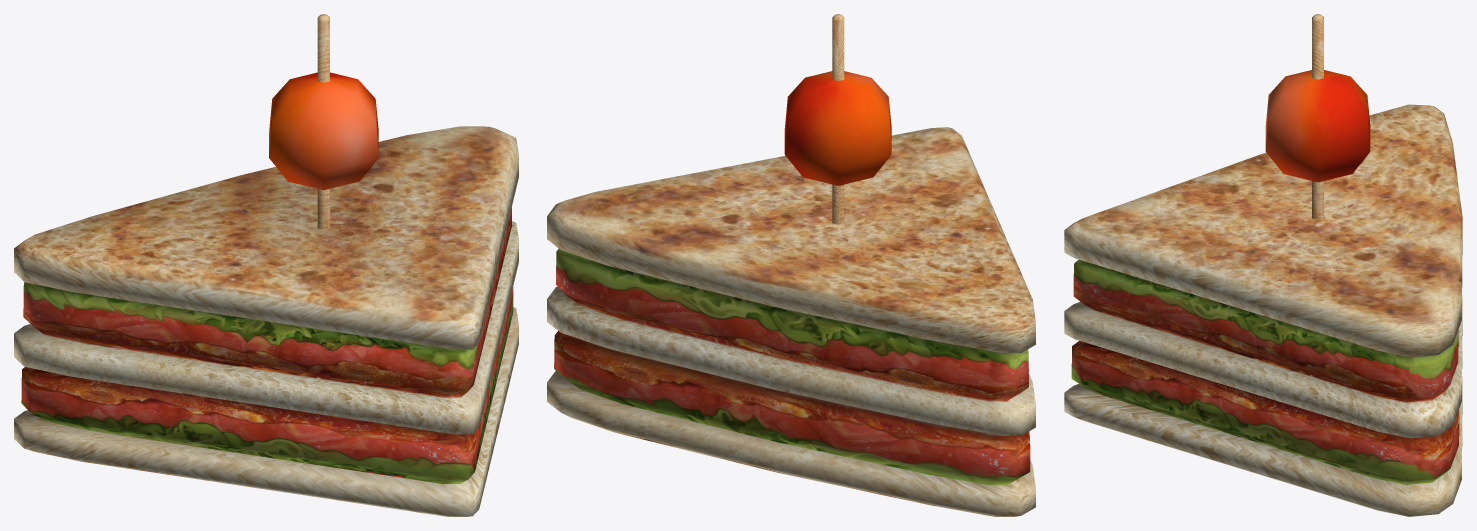
Rendered from FFHP_MOD_Club_SW.fbx.
The picture shows the model from 3 angles, left to right: view 1: azimuth 30°, elevation 25°; view 2: azimuth 150°, elevation 25°; view 3: azimuth 270°, elevation 25°; orthographic projection. The views are drawn at different scales.
Visible parts, largest first — view 1: FFHP_MOD_Club_sandwich; view 2: FFHP_MOD_Club_sandwich; view 3: FFHP_MOD_Club_sandwich.
Part boxes in pixels (left/top/right/bottom): FFHP_MOD_Club_sandwich: left=14, top=14, right=518, bottom=516; FFHP_MOD_Club_sandwich: left=547, top=14, right=1035, bottom=516; FFHP_MOD_Club_sandwich: left=1064, top=14, right=1462, bottom=516.
Size of the model in its own units: 0.2122 by 0.1697 by 0.1558.
